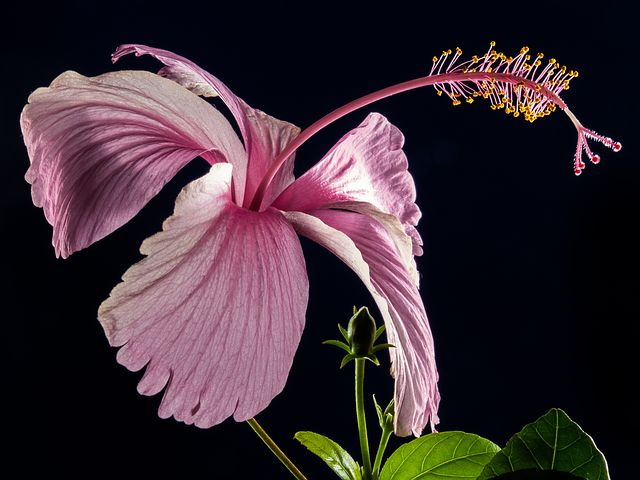Hibiscus: (33, 22, 625, 469)
